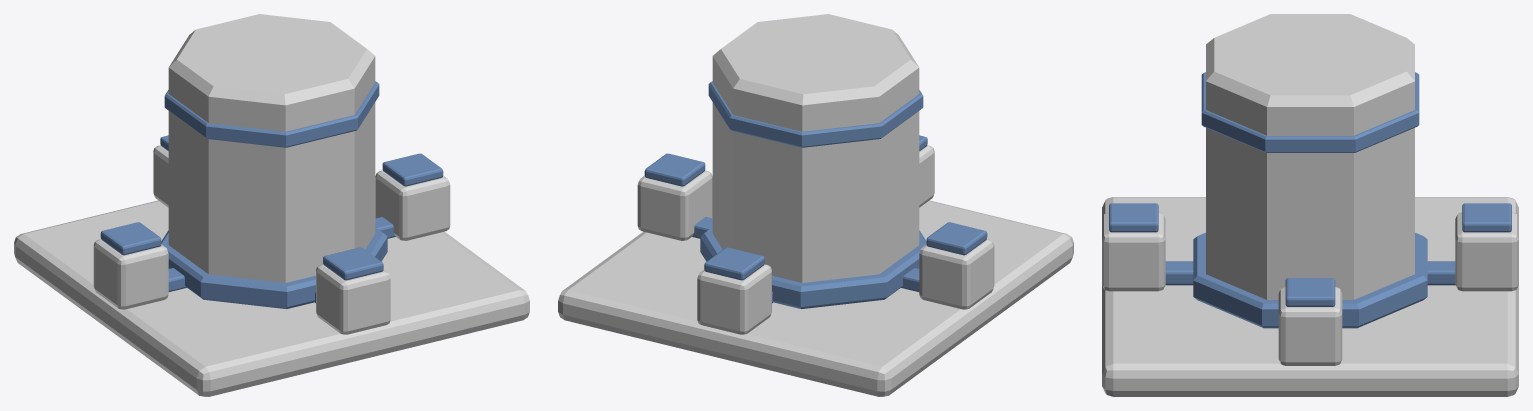
Rendered from broker.glb.
3 renders of one model, left to right at view 1: azimuth 30°, elevation 25°; view 2: azimuth 150°, elevation 25°; view 3: azimuth 270°, elevation 25°, orthographic. The views are drawn at different scales.
Visible parts, largest first — view 1: hub, board, hub-base, satellite.2, satellite.1, satellite.0, collar, satellite-cap.0, satellite-cap.2, satellite-cap.1, satellite.3; view 2: hub, board, hub-base, satellite.2, satellite.3, satellite.0, collar, satellite-cap.0, satellite-cap.2, satellite-cap.3, satellite.1; view 3: hub, board, hub-base, collar, satellite.0, satellite.1, satellite.3, satellite-cap.1, satellite-cap.3, satellite-cap.0, spoke.1, spoke.3.
Part boxes in pixels (bbox=[...]): hub: bbox=[168, 14, 375, 282]; board: bbox=[14, 200, 529, 396]; hub-base: bbox=[161, 227, 387, 309]; satellite.2: bbox=[93, 239, 168, 309]; satellite.1: bbox=[316, 264, 390, 334]; satellite.0: bbox=[375, 170, 450, 240]; collar: bbox=[164, 81, 379, 147]; satellite-cap.0: bbox=[382, 153, 443, 186]; satellite-cap.2: bbox=[100, 222, 161, 255]; satellite-cap.1: bbox=[323, 247, 383, 280]; satellite.3: bbox=[153, 145, 168, 207]; hub: bbox=[712, 14, 919, 282]; board: bbox=[558, 200, 1073, 396]; hub-base: bbox=[700, 227, 926, 309]; satellite.2: bbox=[919, 239, 994, 309]; satellite.3: bbox=[697, 264, 771, 334]; satellite.0: bbox=[637, 170, 712, 240]; collar: bbox=[708, 81, 923, 147]; satellite-cap.0: bbox=[644, 153, 705, 186]; satellite-cap.2: bbox=[926, 222, 987, 255]; satellite-cap.3: bbox=[704, 247, 764, 280]; satellite.1: bbox=[919, 145, 934, 207]; hub: bbox=[1206, 14, 1414, 299]; board: bbox=[1102, 197, 1518, 396]; hub-base: bbox=[1193, 232, 1427, 328]; collar: bbox=[1201, 72, 1419, 152]; satellite.0: bbox=[1278, 287, 1342, 365]; satellite.1: bbox=[1102, 212, 1165, 291]; satellite.3: bbox=[1455, 212, 1518, 291]; satellite-cap.1: bbox=[1109, 203, 1158, 232]; satellite-cap.3: bbox=[1462, 203, 1511, 232]; satellite-cap.0: bbox=[1285, 278, 1335, 306]; spoke.1: bbox=[1165, 261, 1193, 285]; spoke.3: bbox=[1427, 261, 1455, 285].
Size of the model in its own units: 1.84 by 1.26 by 1.84.
